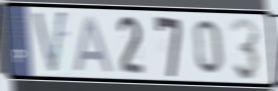0: (192, 18, 227, 78)
2: (117, 14, 146, 76)
3: (229, 15, 264, 82)
7: (153, 13, 183, 79)
A: (72, 14, 115, 74)
V: (31, 8, 69, 77)
